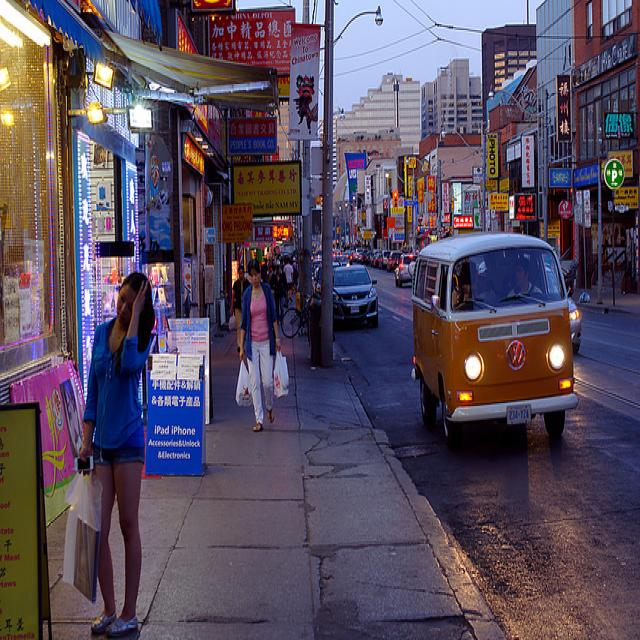Vehicle: (411, 231, 580, 446), (332, 265, 378, 330), (393, 255, 418, 289), (568, 297, 582, 356), (387, 251, 402, 273), (370, 250, 382, 268), (382, 250, 391, 268), (365, 254, 373, 264), (332, 262, 341, 268)
